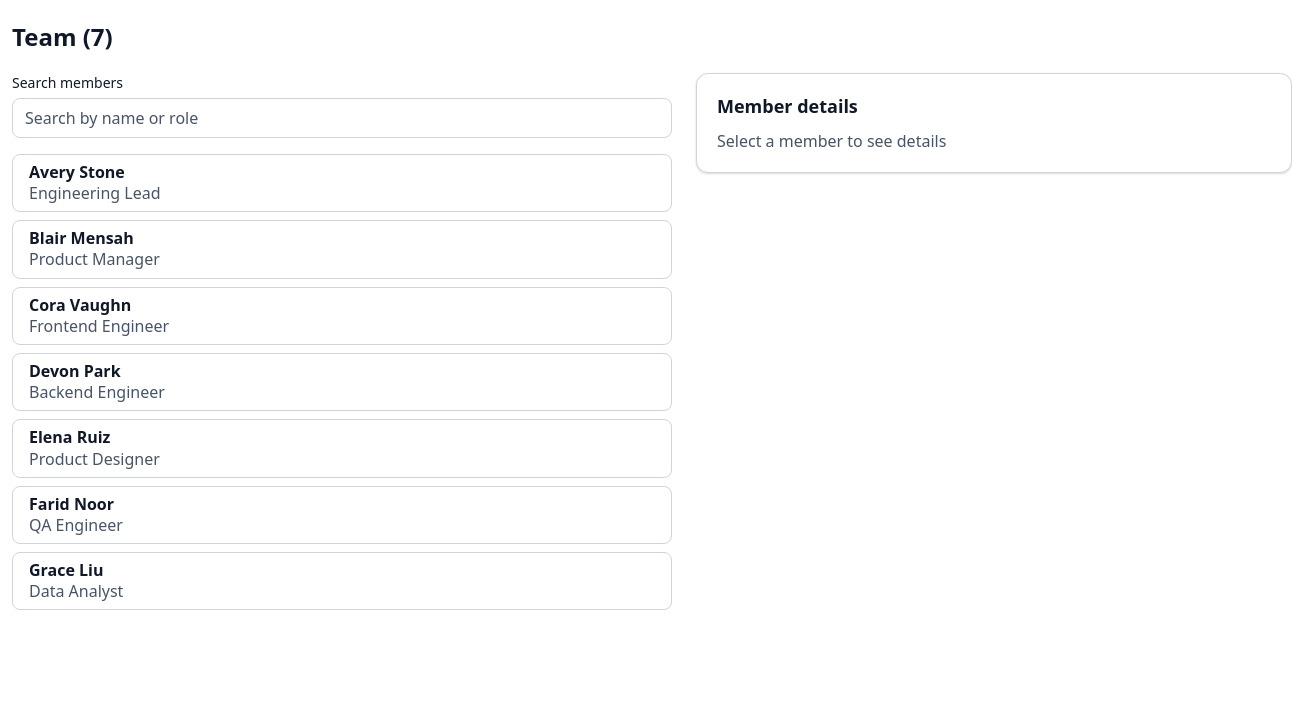
it: TeamPage member detail panel (RMIN-132) › shows the clicked member's name, role and email in the panel (AC3)
What coordinates should you click on to do the following:
click the button "Avery Stone Engineering Lead"
I would click on:
 (77, 172)
Its box is x1=12 y1=154 x2=672 y2=212.
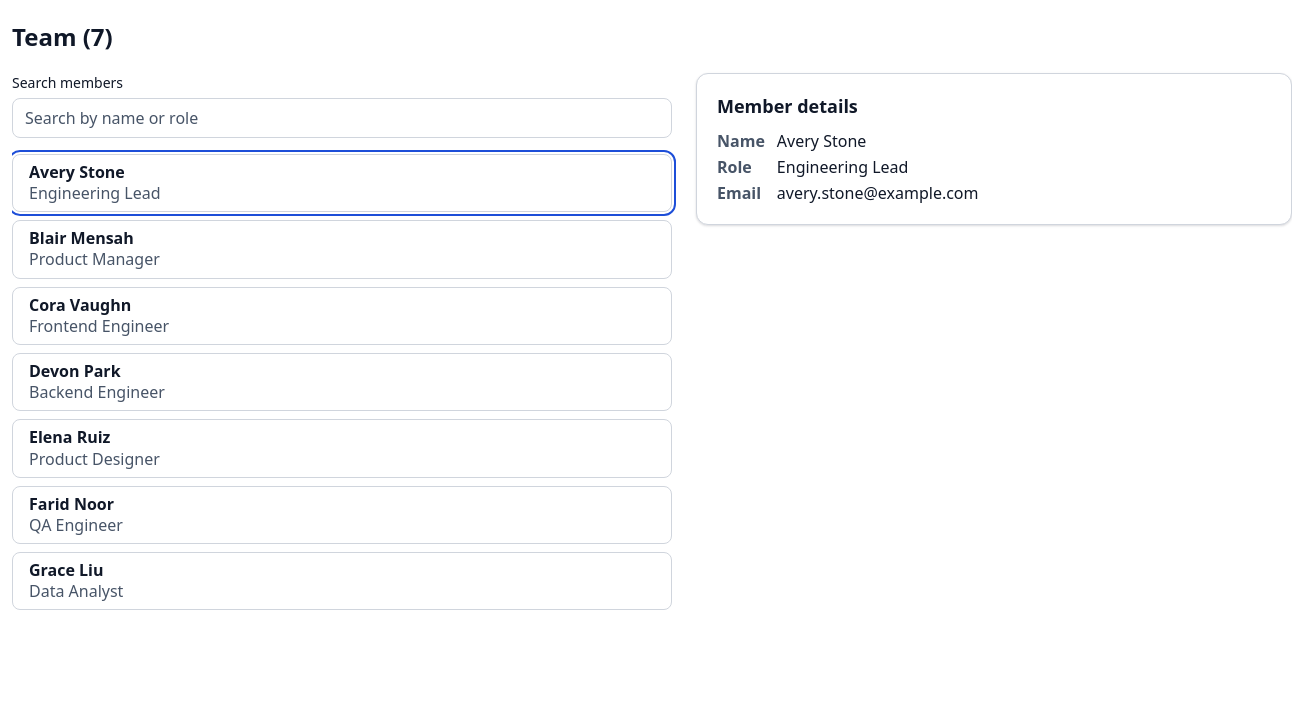
Check: the text "Avery Stone" next to "Name" is shown, box x1=777 y1=130 x2=866 y2=152
Check: the text "Engineering Lead" next to "Role" is shown, box x1=777 y1=156 x2=908 y2=178
Check: the text "avery.stone@example.com" is shown, box x1=777 y1=182 x2=978 y2=204
